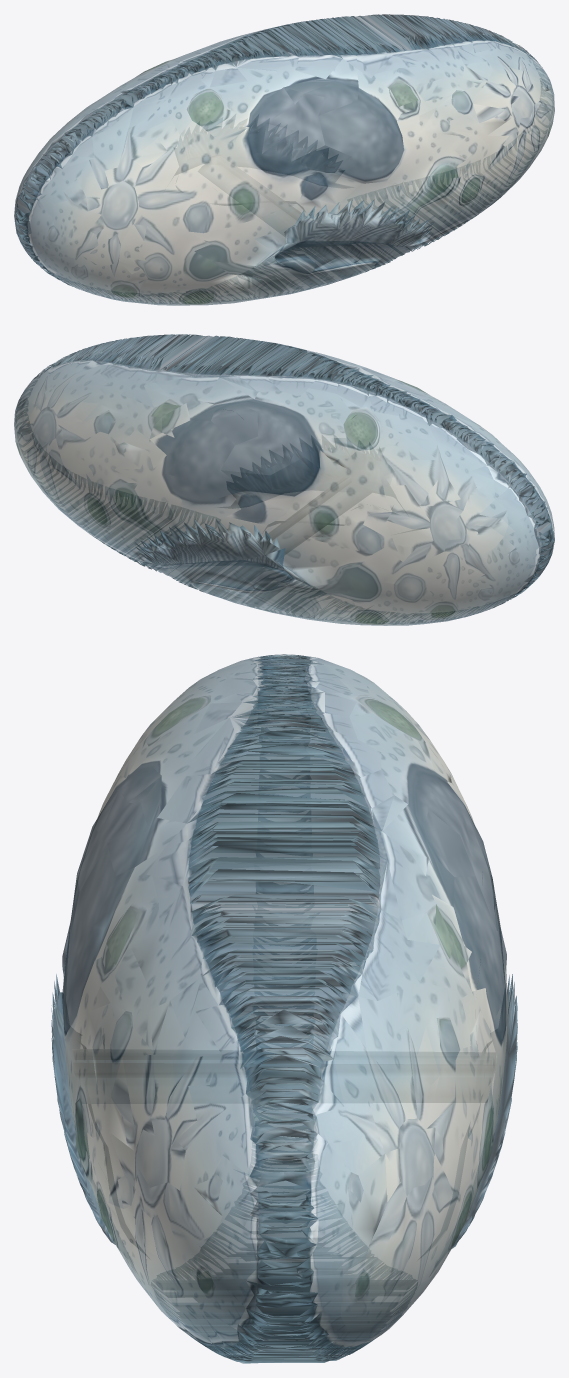
Rendered from paramecium.glb.
3 renders of one model, top to bottom at view 1: azimuth 30°, elevation 25°; view 2: azimuth 150°, elevation 25°; view 3: azimuth 270°, elevation 25°, orthographic. The views are drawn at different scales.
Parts seen in each view (by area): view 1: tripo_node_fe84286d-e395-4d59-a300-b547d31e9a3d; view 2: tripo_node_fe84286d-e395-4d59-a300-b547d31e9a3d; view 3: tripo_node_fe84286d-e395-4d59-a300-b547d31e9a3d.
Part boxes in pixels (x1,y1,x2,y2): tripo_node_fe84286d-e395-4d59-a300-b547d31e9a3d: (14, 14, 554, 305); tripo_node_fe84286d-e395-4d59-a300-b547d31e9a3d: (14, 334, 554, 625); tripo_node_fe84286d-e395-4d59-a300-b547d31e9a3d: (51, 654, 517, 1363).
Bounding box in the file's own units: 1 × 0.4472 × 0.3824.
Materials: 1 (1 with a texture image).
